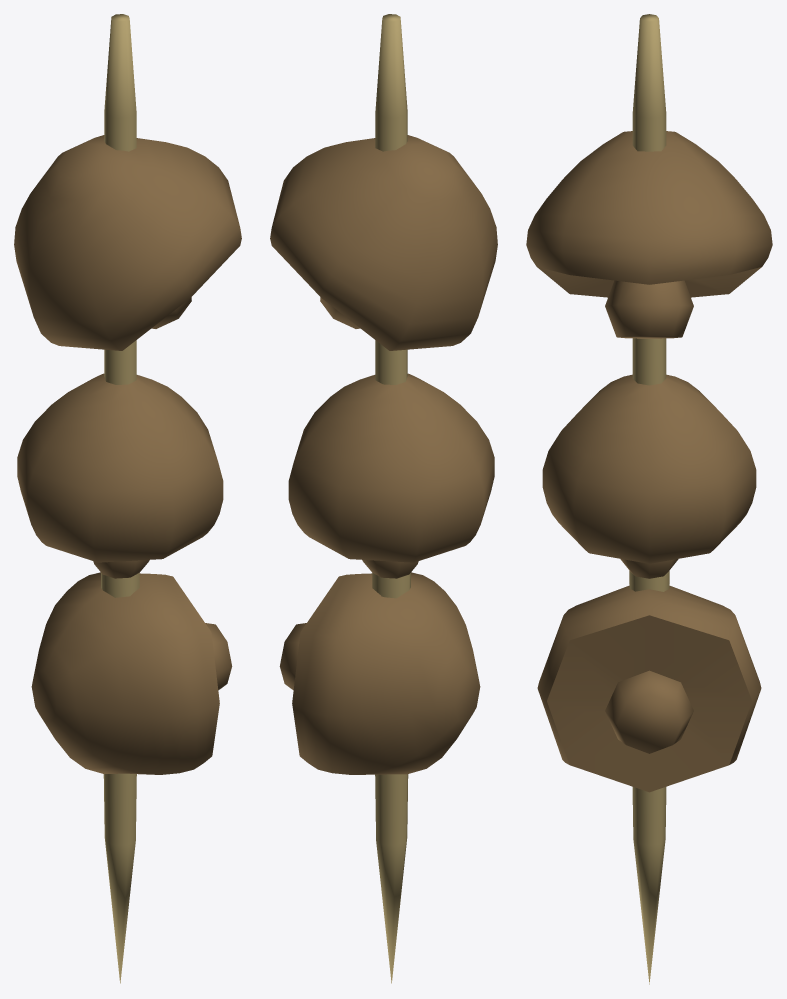
File: Mushroom_Skewer.fbx
The picture shows the model from 3 angles, left to right: view 1: azimuth 30°, elevation 25°; view 2: azimuth 150°, elevation 25°; view 3: azimuth 270°, elevation 25°; orthographic projection.
Parts seen in each view (by area): view 1: Mushroom_Skewer; view 2: Mushroom_Skewer; view 3: Mushroom_Skewer.
Part boxes in pixels (x1=…): Mushroom_Skewer: x1=14, y1=14, x2=241, y2=983; Mushroom_Skewer: x1=270, y1=14, x2=497, y2=983; Mushroom_Skewer: x1=526, y1=14, x2=772, y2=984.
Bounding box in the file's own units: 19.32 × 87.89 × 20.29.
